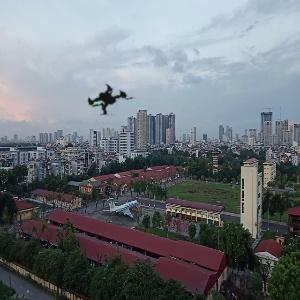drone: (58, 56, 173, 171)
